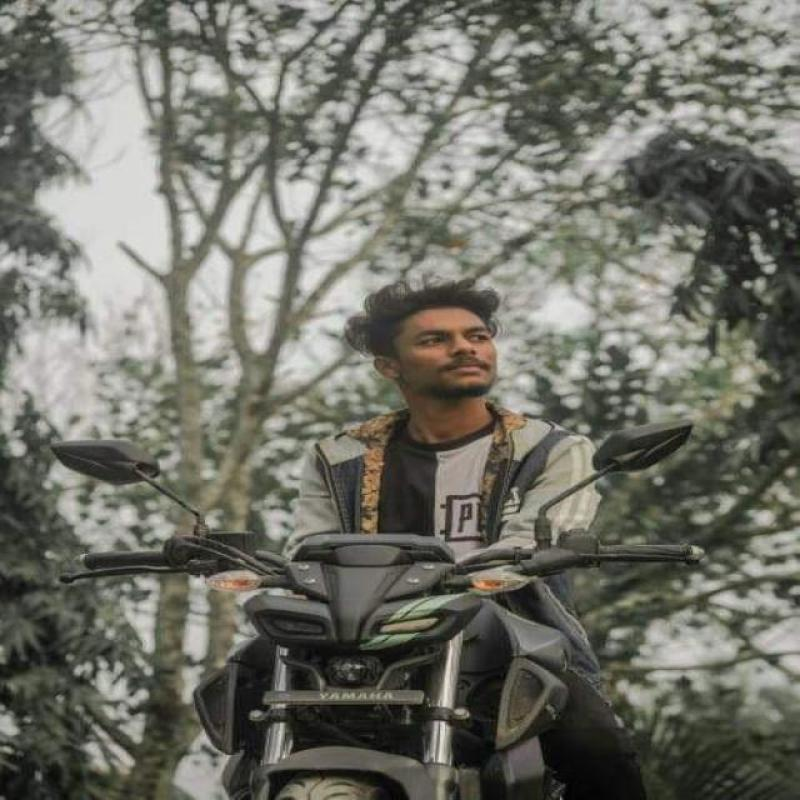nohelmet: (338, 274, 528, 406)
